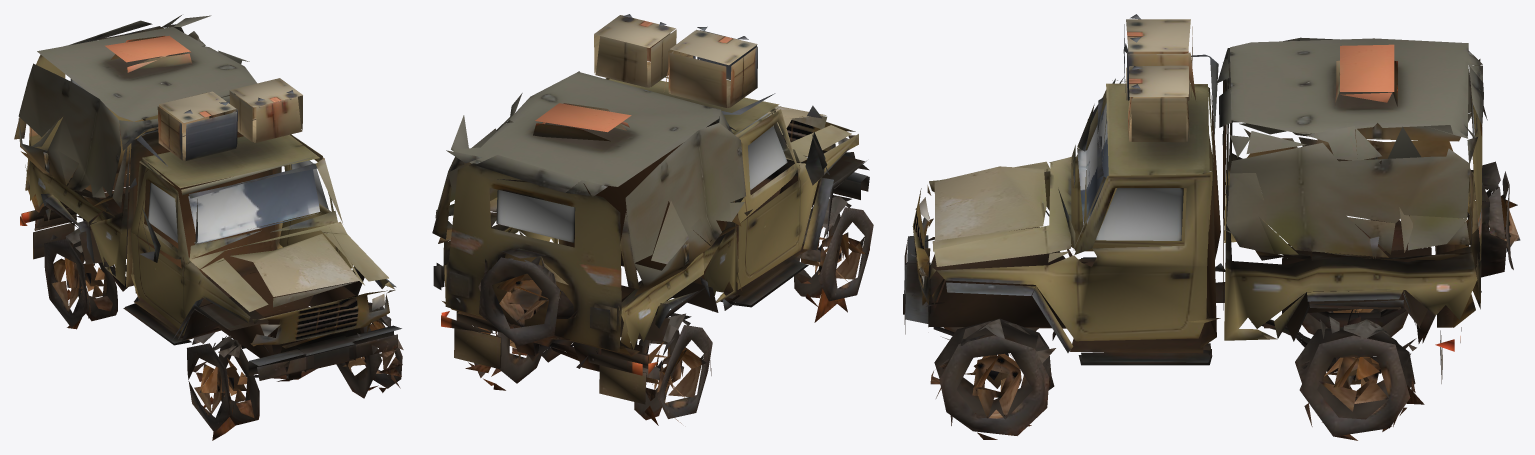
File: ch1_expedition_supply_truck_LOD3.glb
3 renders of one model, left to right at view 1: azimuth 30°, elevation 25°; view 2: azimuth 150°, elevation 25°; view 3: azimuth 270°, elevation 25°, orthographic. The views are drawn at different scales.
Visible parts, largest first — view 1: tripo_node_460f9a1c-10bd-4294-aa59-0ef3abb51b50; view 2: tripo_node_460f9a1c-10bd-4294-aa59-0ef3abb51b50; view 3: tripo_node_460f9a1c-10bd-4294-aa59-0ef3abb51b50.
Boxes of the visible parts, <box> form: tripo_node_460f9a1c-10bd-4294-aa59-0ef3abb51b50: <box>14,15,403,440</box>; tripo_node_460f9a1c-10bd-4294-aa59-0ef3abb51b50: <box>432,14,873,425</box>; tripo_node_460f9a1c-10bd-4294-aa59-0ef3abb51b50: <box>903,14,1520,440</box>.
Size of the model in its own units: 0.5298 by 0.6523 by 1.02.
1 material, 1 textured.
